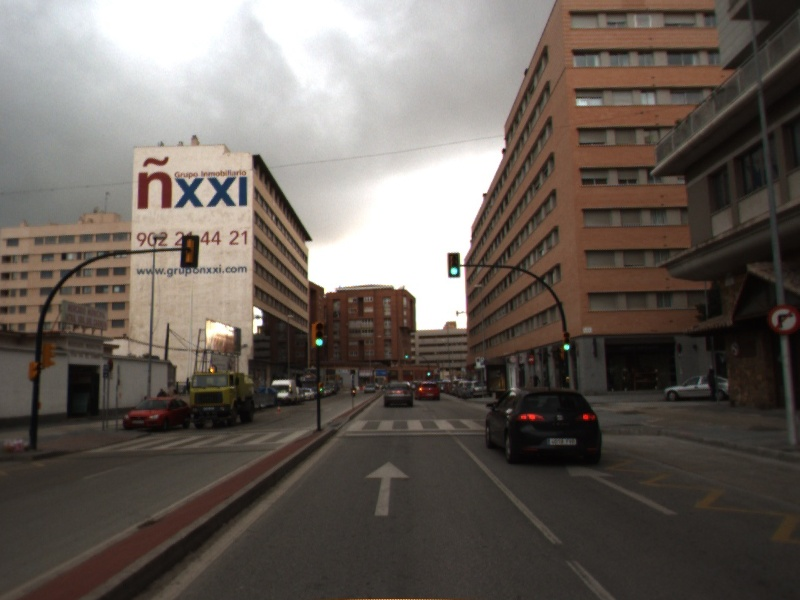STRAIGHT: (564, 462, 681, 518), (361, 459, 413, 518)
